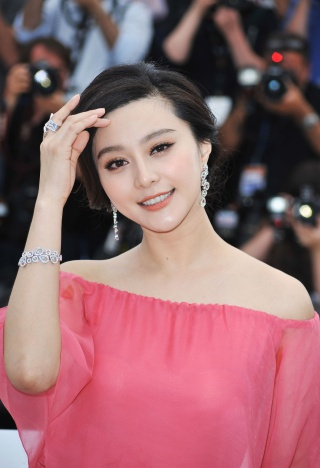female: (61, 63, 239, 241)
